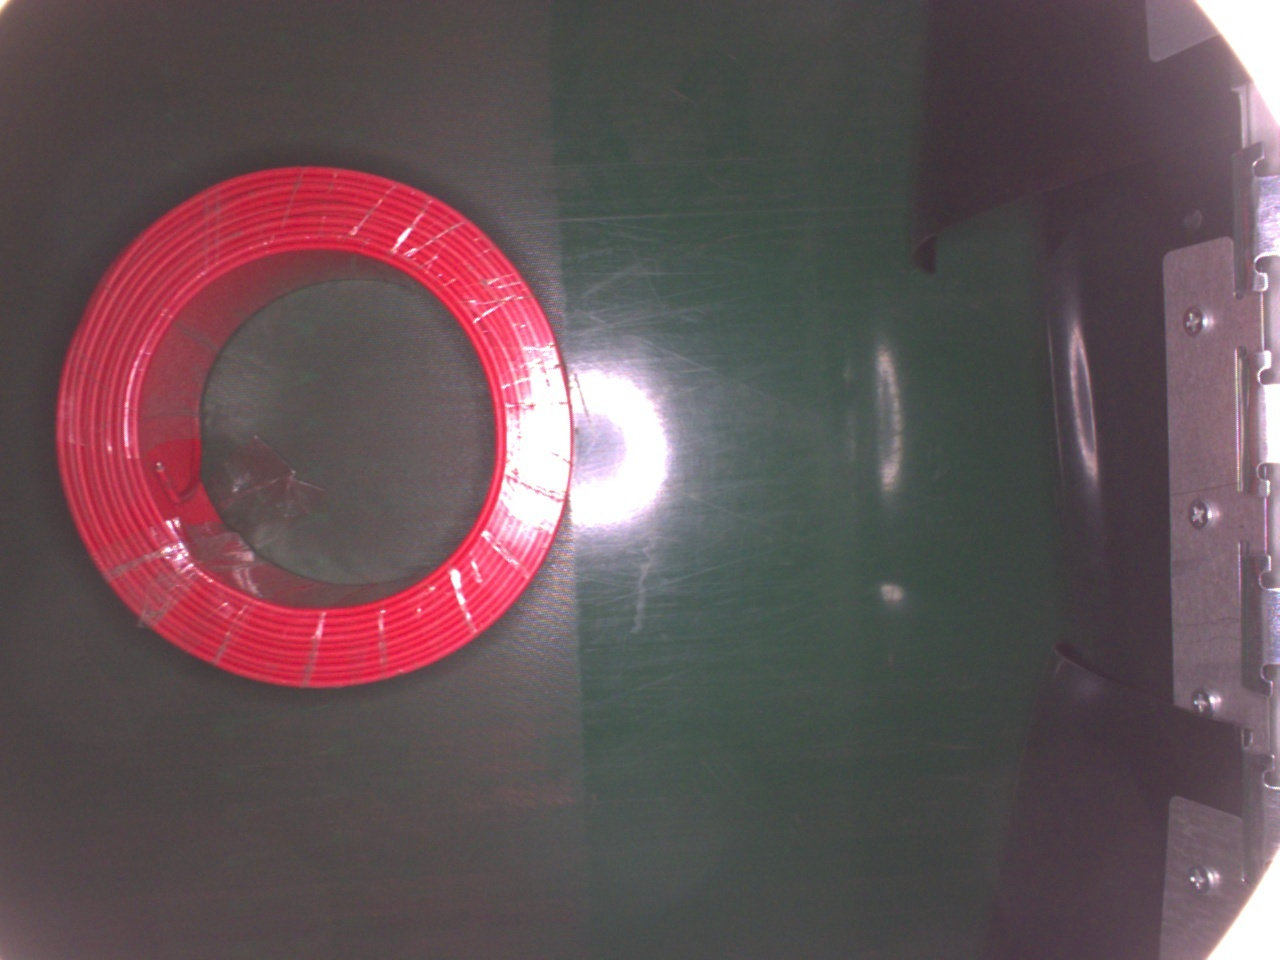red: (56, 161, 574, 687)
